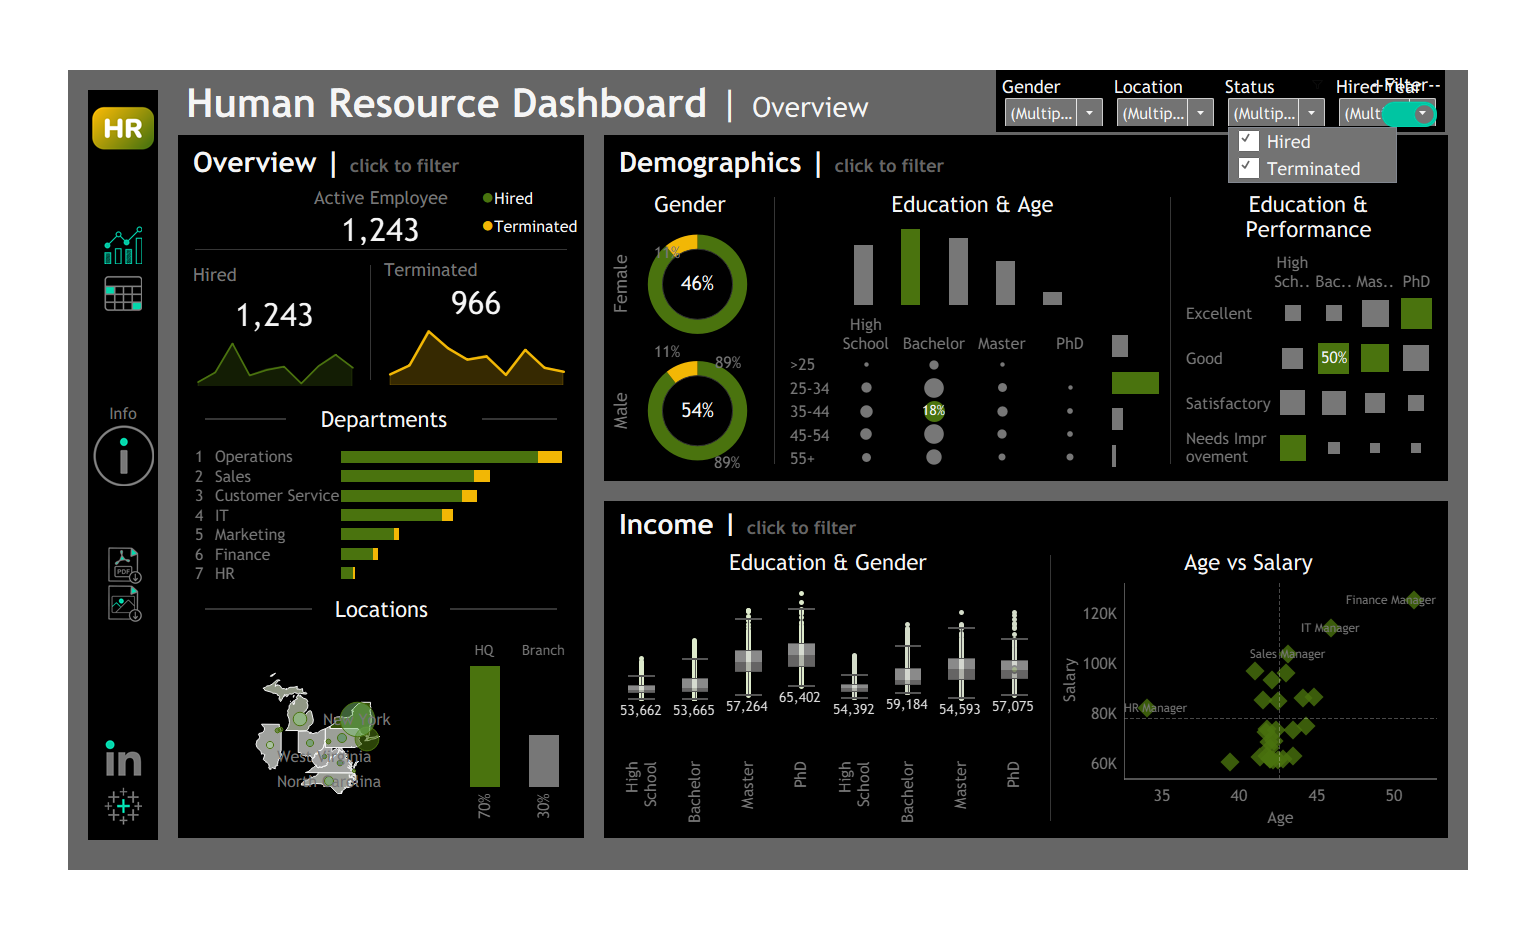

The dashboard page shown, as its layout file describes it:
{"tool":"tableau","page":{"name":"HR","canvas":[1400,800],"ordinal":0},"visuals":[{"type":"text","box":[110,0,823,65]},{"type":"blank","box":[933,0,447,65]},{"type":"text","box":[1299,0,100,30]},{"type":"filter","title":"Gender vs education ","param":"[federated.0q2gh4h1n235b5190az610rpepij].[none:Gender:nk]","box":[930,2,112,58]},{"type":"filter","title":"Gender vs education ","param":"[federated.0q2gh4h1n235b5190az610rpepij].[none:Calculation_1044828008271874:nk]","box":[1042,2,111,58]},{"type":"filter","title":"Gender vs education ","param":"[federated.0q2gh4h1n235b5190az610rpepij].[none:Calculation_1919764739563520:nk]","box":[1153,2,111,58]},{"type":"filter","title":"Gender vs education ","param":"[federated.0q2gh4h1n235b5190az610rpepij].[yr:Hiredate:ok]","box":[1264,2,111,58]},{"type":"image","param":"Image/croatia.png","box":[20,20,70,76]},{"type":"dashboard-object","box":[1313,23,56,44]},{"type":"text","box":[117,72,392,41]},{"type":"text","box":[543,72,830,40]},{"type":"blank","box":[20,96,70,60]},{"type":"text","box":[409,104,120,72]},{"type":"text","box":[117,113,392,29]},{"type":"text","box":[543,117,158,34]},{"type":"blank","box":[706,117,1,287]},{"type":"text","box":[712,117,385,34]},{"type":"blank","box":[1102,117,1,287]},{"type":"text","box":[1108,117,265,60]},{"type":"worksheet","title":"Total Active","mark":"Automatic","box":[117,142,392,37]},{"type":"worksheet","title":"Gender","mark":"Pie","rows":["Gender"],"cols":["Calculation_0624264881008641","Calculation_0624264881008641"],"box":[543,151,158,253]},{"type":"worksheet","title":"Total vs Age category","mark":"Bar","rows":["Calculation_1037131389304833"],"cols":["Calculation_0624264885260291"],"box":[712,151,385,88]},{"type":"dashboard-object","box":[20,156,70,38]},{"type":"worksheet","title":"Educational Background","mark":"Square","rows":["Performance Rating"],"cols":["Education Level"],"box":[1108,177,265,227]},{"type":"blank","box":[117,179,392,1]},{"type":"text","box":[117,185,180,40]},{"type":"blank","box":[302,185,1,135]},{"type":"text","box":[308,185,200.9,29]},{"type":"blank","box":[20,194,70,10]},{"type":"text","box":[89,200,1309,436]},{"type":"dashboard-object","box":[20,204,70,38]},{"type":"worksheet","title":"Total Terminated","mark":"Automatic","box":[308,214,200.9,39]},{"type":"worksheet","title":"Total Hired","mark":"Automatic","box":[117,225,180,41]},{"type":"worksheet","title":"Education","mark":"Circle","rows":["Calculation_0624264885260291"],"cols":["Education Level"],"box":[712,239,328,165]},{"type":"worksheet","title":"Total vs Education","mark":"Bar","rows":["Education Level"],"cols":["Calculation_1037131389304833"],"box":[1040,239,57,165]},{"type":"blank","box":[20,242,70,85]},{"type":"worksheet","title":"Terminated Trend","mark":"Line","rows":["Calculation_1037131389579266","Calculation_1037131389579266"],"cols":["Hiredate"],"box":[308,253,200.9,67]},{"type":"worksheet","title":"Hired Trend","mark":"Line","rows":["Calculation_1037131389304833","Calculation_1037131389304833"],"cols":["Hiredate"],"box":[117,266,180,54]},{"type":"text","box":[20,327,70,32]},{"type":"blank","box":[127,330,101,38]},{"type":"text","box":[228,330,176,38]},{"type":"blank","box":[404,330,95,38]},{"type":"dashboard-object","box":[25,348,61,75]},{"type":"blank","box":[20,359,70,107]},{"type":"worksheet","title":"Department vs Job Title","mark":"Bar","rows":["Calculation_1044828005220353","Department"],"cols":["Calculation_1037131389304833"],"box":[117,373,392,144]},{"type":"text","box":[543,438,830,32]},{"type":"text","box":[543,475,434,34]},{"type":"blank","box":[982,475,1,286]},{"type":"text","box":[988,475,385,34]},{"type":"dashboard-object","box":[30,476,50,38]},{"type":"worksheet","title":"Gender vs education ","mark":"Circle","rows":["Salary"],"cols":["Gender","Education Level"],"box":[543,509,434,252]},{"type":"worksheet","title":"Scatter plot","mark":"Shape","rows":["Salary"],"cols":["Calculation_0624264884490242"],"box":[988,509,385,252]},{"type":"dashboard-object","box":[30,514,50,38]},{"type":"blank","box":[127,522,126.7,34]},{"type":"text","box":[253.7,522,118.7,34]},{"type":"blank","box":[372.3,522,126.7,34]},{"type":"blank","box":[30,552,50,117]},{"type":"worksheet","title":"City and State","mark":"Automatic","box":[117,566,266,195]},{"type":"worksheet","title":"Headquarters","mark":"Bar","rows":["Calculation_1037131389304833"],"cols":["Calculation_1044828008271874","Calculation1"],"box":[383,566,126,195]},{"type":"blank","box":[89,636,1309,163]},{"type":"image","param":"Image/contact-linkedin.png","box":[30,669,50,38]},{"type":"image","param":"Image/contact-public.png","box":[20,717,70,38]}]}

Visuals, with their boxes on the page's 1400x800 design canvas (x1, y1, x2, y2). These are canvas units, not pixel positions in the 1533x937 screenshot, which may show the page scaled, cropped or inside an application window:
text: (110,0,933,65)
blank: (933,0,1380,65)
text: (1299,0,1399,30)
"Gender vs education " filter: (930,2,1042,60)
"Gender vs education " filter: (1042,2,1153,60)
"Gender vs education " filter: (1153,2,1264,60)
"Gender vs education " filter: (1264,2,1375,60)
image: (20,20,90,96)
dashboard-object: (1313,23,1369,67)
text: (117,72,509,113)
text: (543,72,1373,112)
blank: (20,96,90,156)
text: (409,104,529,176)
text: (117,113,509,142)
text: (543,117,701,151)
blank: (706,117,707,404)
text: (712,117,1097,151)
blank: (1102,117,1103,404)
text: (1108,117,1373,177)
"Total Active" worksheet: (117,142,509,179)
"Gender" worksheet (Pie marks): (543,151,701,404)
"Total vs Age category" worksheet (Bar marks): (712,151,1097,239)
dashboard-object: (20,156,90,194)
"Educational Background" worksheet (Square marks): (1108,177,1373,404)
blank: (117,179,509,180)
text: (117,185,297,225)
blank: (302,185,303,320)
text: (308,185,509,214)
blank: (20,194,90,204)
text: (89,200,1398,636)
dashboard-object: (20,204,90,242)
"Total Terminated" worksheet: (308,214,509,253)
"Total Hired" worksheet: (117,225,297,266)
"Education" worksheet (Circle marks): (712,239,1040,404)
"Total vs Education" worksheet (Bar marks): (1040,239,1097,404)
blank: (20,242,90,327)
"Terminated Trend" worksheet (Line marks): (308,253,509,320)
"Hired Trend" worksheet (Line marks): (117,266,297,320)
text: (20,327,90,359)
blank: (127,330,228,368)
text: (228,330,404,368)
blank: (404,330,499,368)
dashboard-object: (25,348,86,423)
blank: (20,359,90,466)
"Department vs Job Title" worksheet (Bar marks): (117,373,509,517)
text: (543,438,1373,470)
text: (543,475,977,509)
blank: (982,475,983,761)
text: (988,475,1373,509)
dashboard-object: (30,476,80,514)
"Gender vs education " worksheet (Circle marks): (543,509,977,761)
"Scatter plot" worksheet (Shape marks): (988,509,1373,761)
dashboard-object: (30,514,80,552)
blank: (127,522,254,556)
text: (254,522,372,556)
blank: (372,522,499,556)
blank: (30,552,80,669)
"City and State" worksheet: (117,566,383,761)
"Headquarters" worksheet (Bar marks): (383,566,509,761)
blank: (89,636,1398,799)
image: (30,669,80,707)
image: (20,717,90,755)
